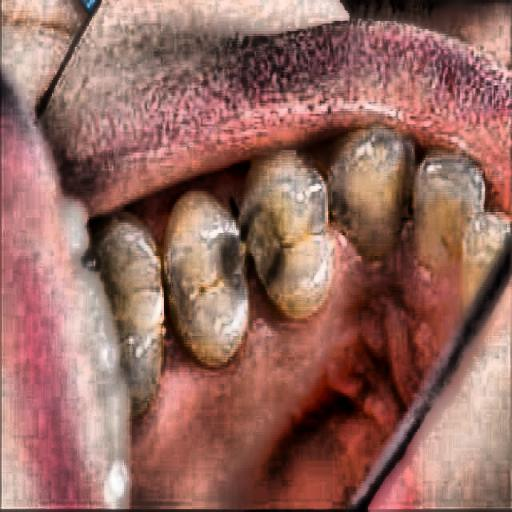Caries: (200, 180, 342, 339)
